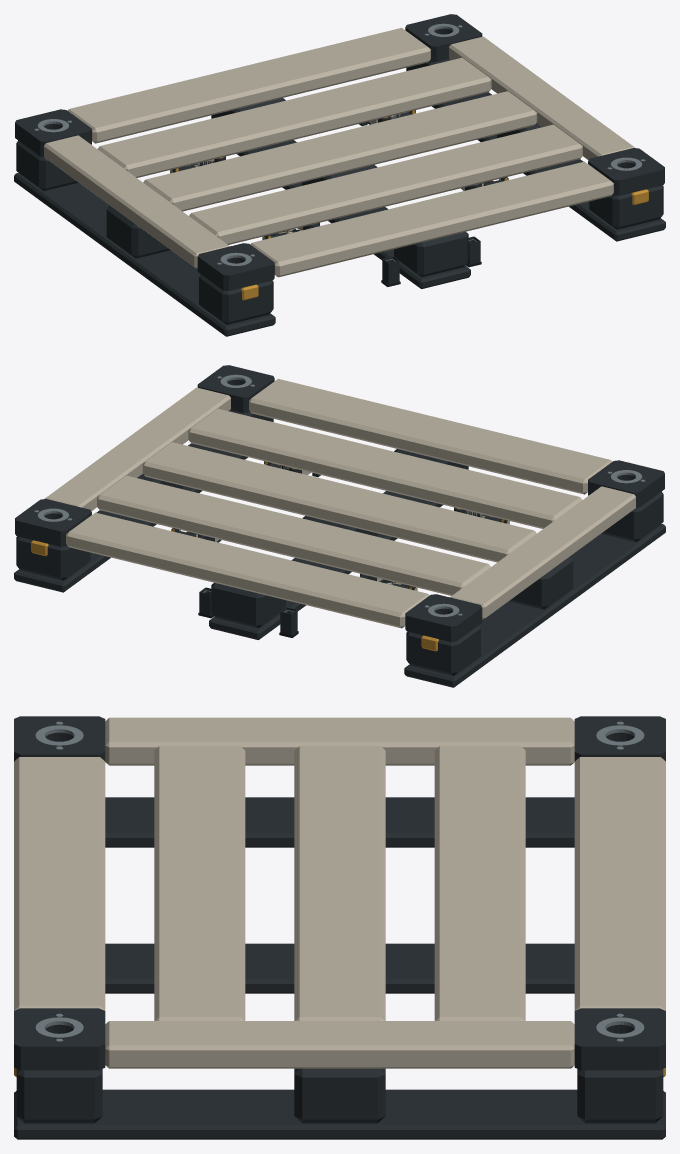
The model's file is stride02_stowed_d0_lod0.glb.
3 views of the same model, one above another, from view 1: azimuth 30°, elevation 25°; view 2: azimuth 150°, elevation 25°; view 3: azimuth 270°, elevation 25° (orthographic). The views are drawn at different scales.
Parts seen in each view (by area): view 1: PALLET_SURFACE, PARK_HOUSINGS_SURFACE; view 2: PALLET_SURFACE, PARK_HOUSINGS_SURFACE; view 3: PALLET_SURFACE.
Boxes of the visible parts, x1,y1,x2,y2 form: PALLET_SURFACE: [14, 14, 665, 336]; PARK_HOUSINGS_SURFACE: [382, 236, 480, 284]; PALLET_SURFACE: [14, 365, 665, 687]; PARK_HOUSINGS_SURFACE: [199, 587, 297, 635]; PALLET_SURFACE: [14, 716, 665, 1139].
Size of the model in its own units: 1.2 by 0.16 by 1.
